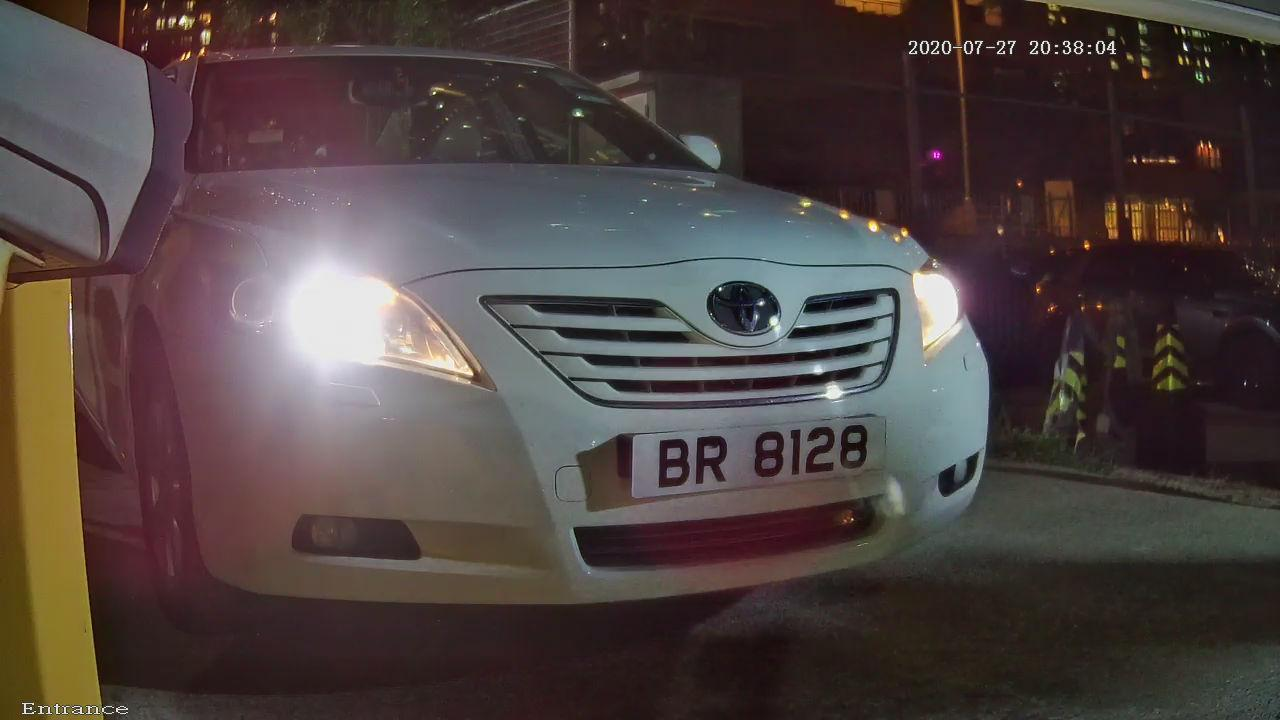privatecar: (126, 23, 1058, 640)
